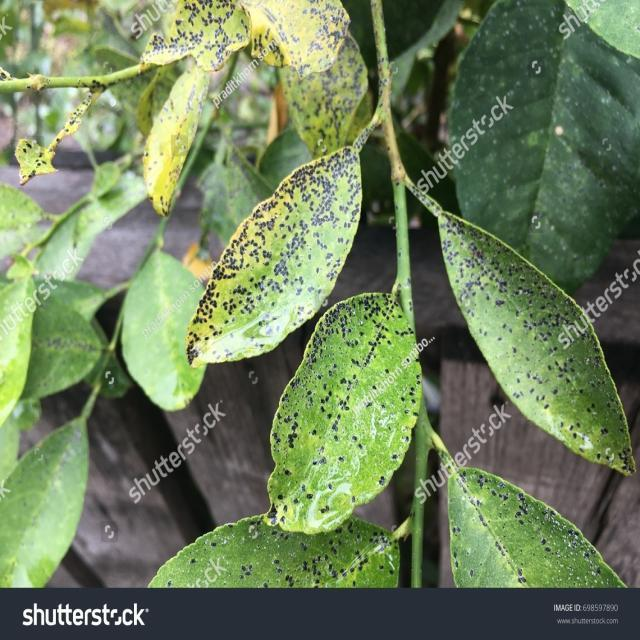Bacterial Spot: (432, 216, 640, 460), (185, 149, 351, 364), (264, 292, 413, 518), (449, 466, 622, 592), (138, 514, 414, 588), (126, 0, 356, 85), (143, 73, 212, 220)
